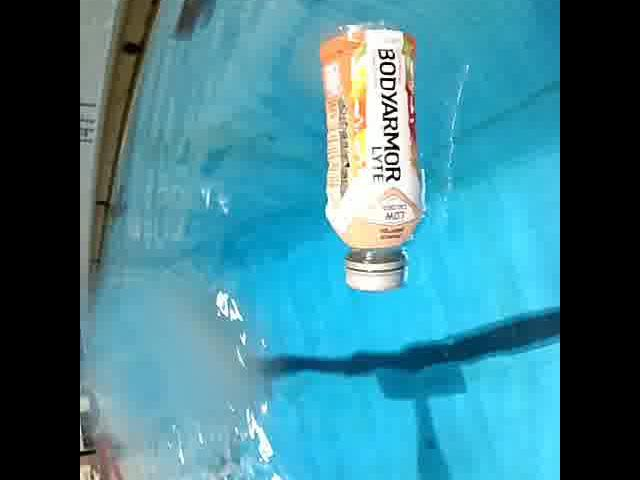Bottle: (316, 14, 418, 286)
